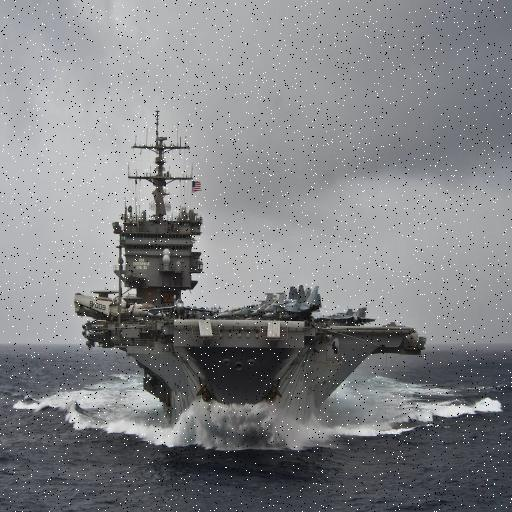Portanaves: (72, 102, 430, 456)
